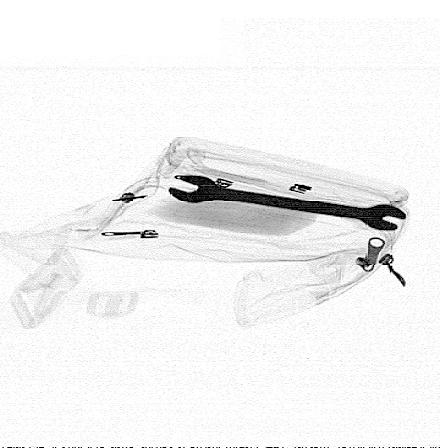Wrench: (168, 175, 408, 231)
